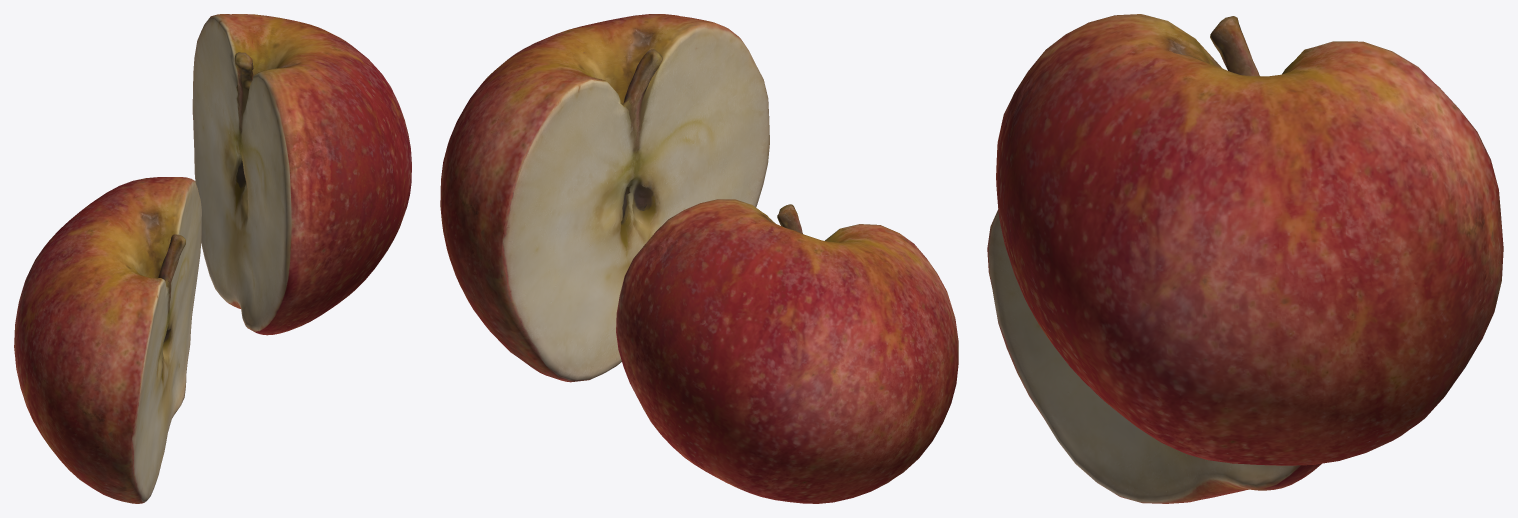
File: sliced_apple.glb
3 renders of one model, left to right at view 1: azimuth 30°, elevation 25°; view 2: azimuth 150°, elevation 25°; view 3: azimuth 270°, elevation 25°, orthographic. The views are drawn at different scales.
Parts seen in each view (by area): view 1: QuadAppleHalva.002, QuadAppleHalva.003; view 2: QuadAppleHalva.003, QuadAppleHalva.002; view 3: QuadAppleHalva.002, QuadAppleHalva.003.
Boxes of the visible parts, x1,y1,x2,y2 form: QuadAppleHalva.002: [192, 14, 411, 335]; QuadAppleHalva.003: [14, 177, 201, 503]; QuadAppleHalva.003: [616, 199, 958, 503]; QuadAppleHalva.002: [440, 14, 769, 382]; QuadAppleHalva.002: [996, 14, 1503, 465]; QuadAppleHalva.003: [987, 209, 1321, 503].
Size of the model in its own units: 16.27 by 15.62 by 12.66.
Materials: 1 (1 with a texture image).
